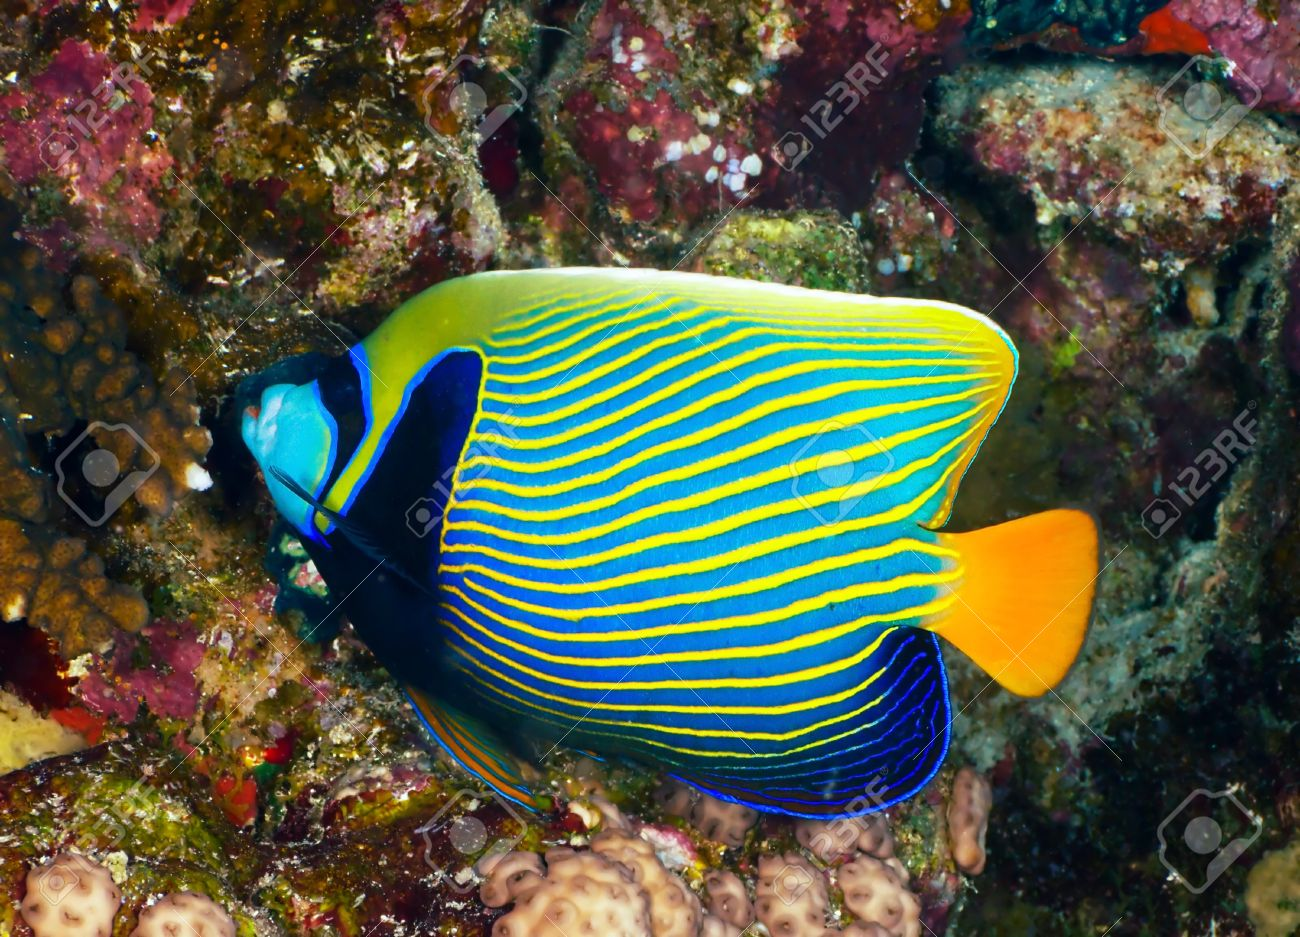Pomacanthus_imperator: (235, 264, 1110, 833)
